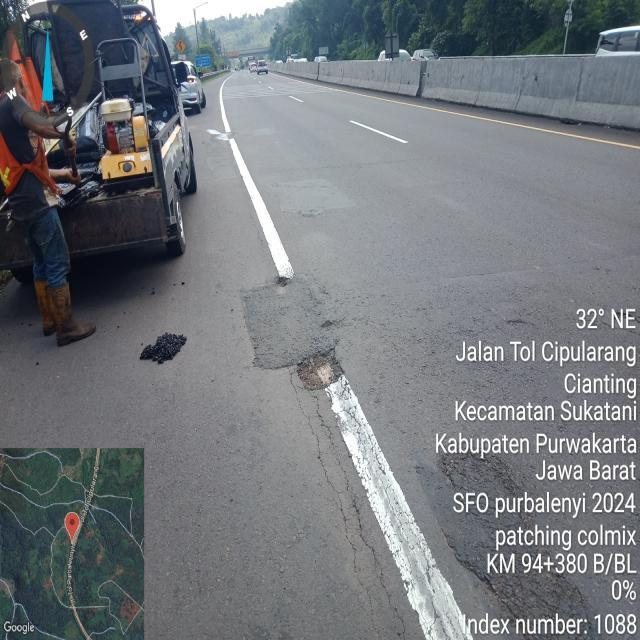Buraco: (294, 346, 348, 393), (203, 126, 237, 142), (555, 117, 585, 128), (272, 275, 292, 289)
